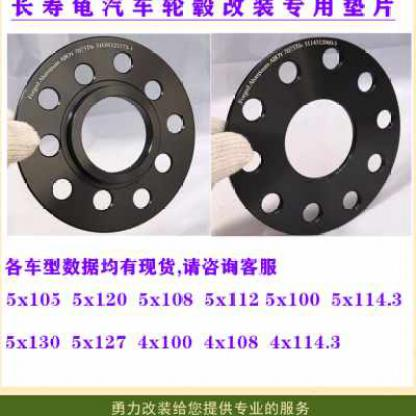FOD: (7, 35, 199, 233), (221, 30, 404, 236)
